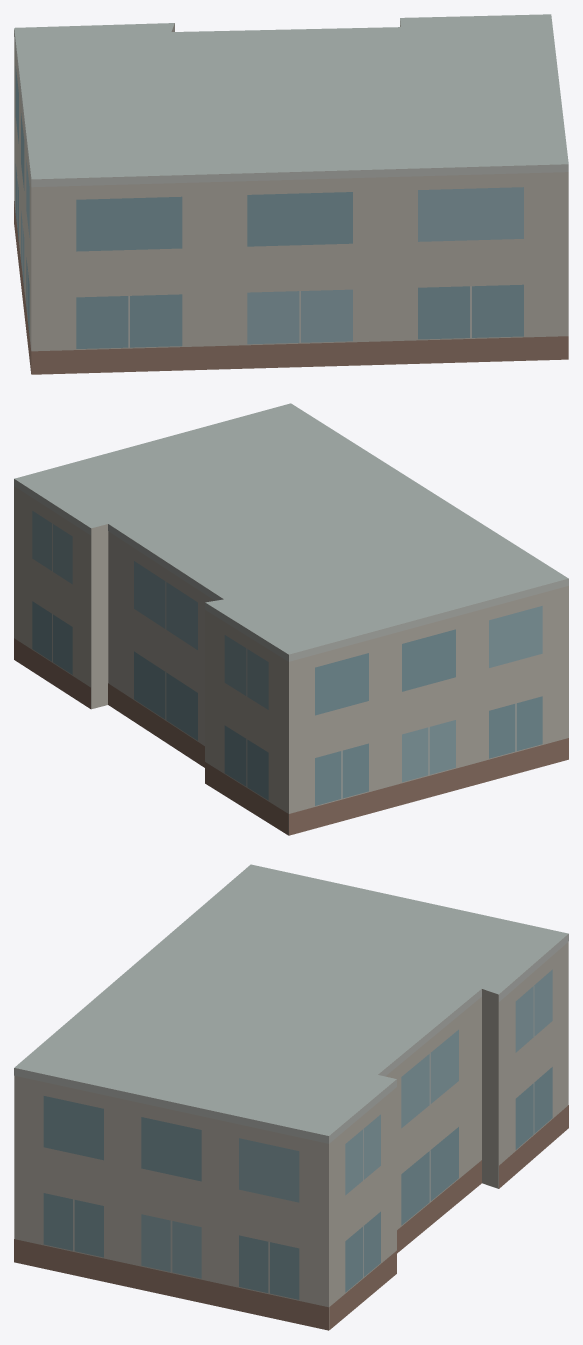
The model's file is survey-upis-32885211.glb.
The picture shows the model from 3 angles, top to bottom: view 1: azimuth 30°, elevation 25°; view 2: azimuth 150°, elevation 25°; view 3: azimuth 270°, elevation 25°; orthographic projection. The views are drawn at different scales.
Visible parts, largest first — view 1: survey-upis-32885211.tmp; view 2: survey-upis-32885211.tmp; view 3: survey-upis-32885211.tmp.
Boxes of the visible parts, <box> form: survey-upis-32885211.tmp: <box>14,14,568,374</box>; survey-upis-32885211.tmp: <box>14,403,568,835</box>; survey-upis-32885211.tmp: <box>14,864,568,1330</box>.
Size of the model in its own units: 18.29 by 6.1 by 15.78.
